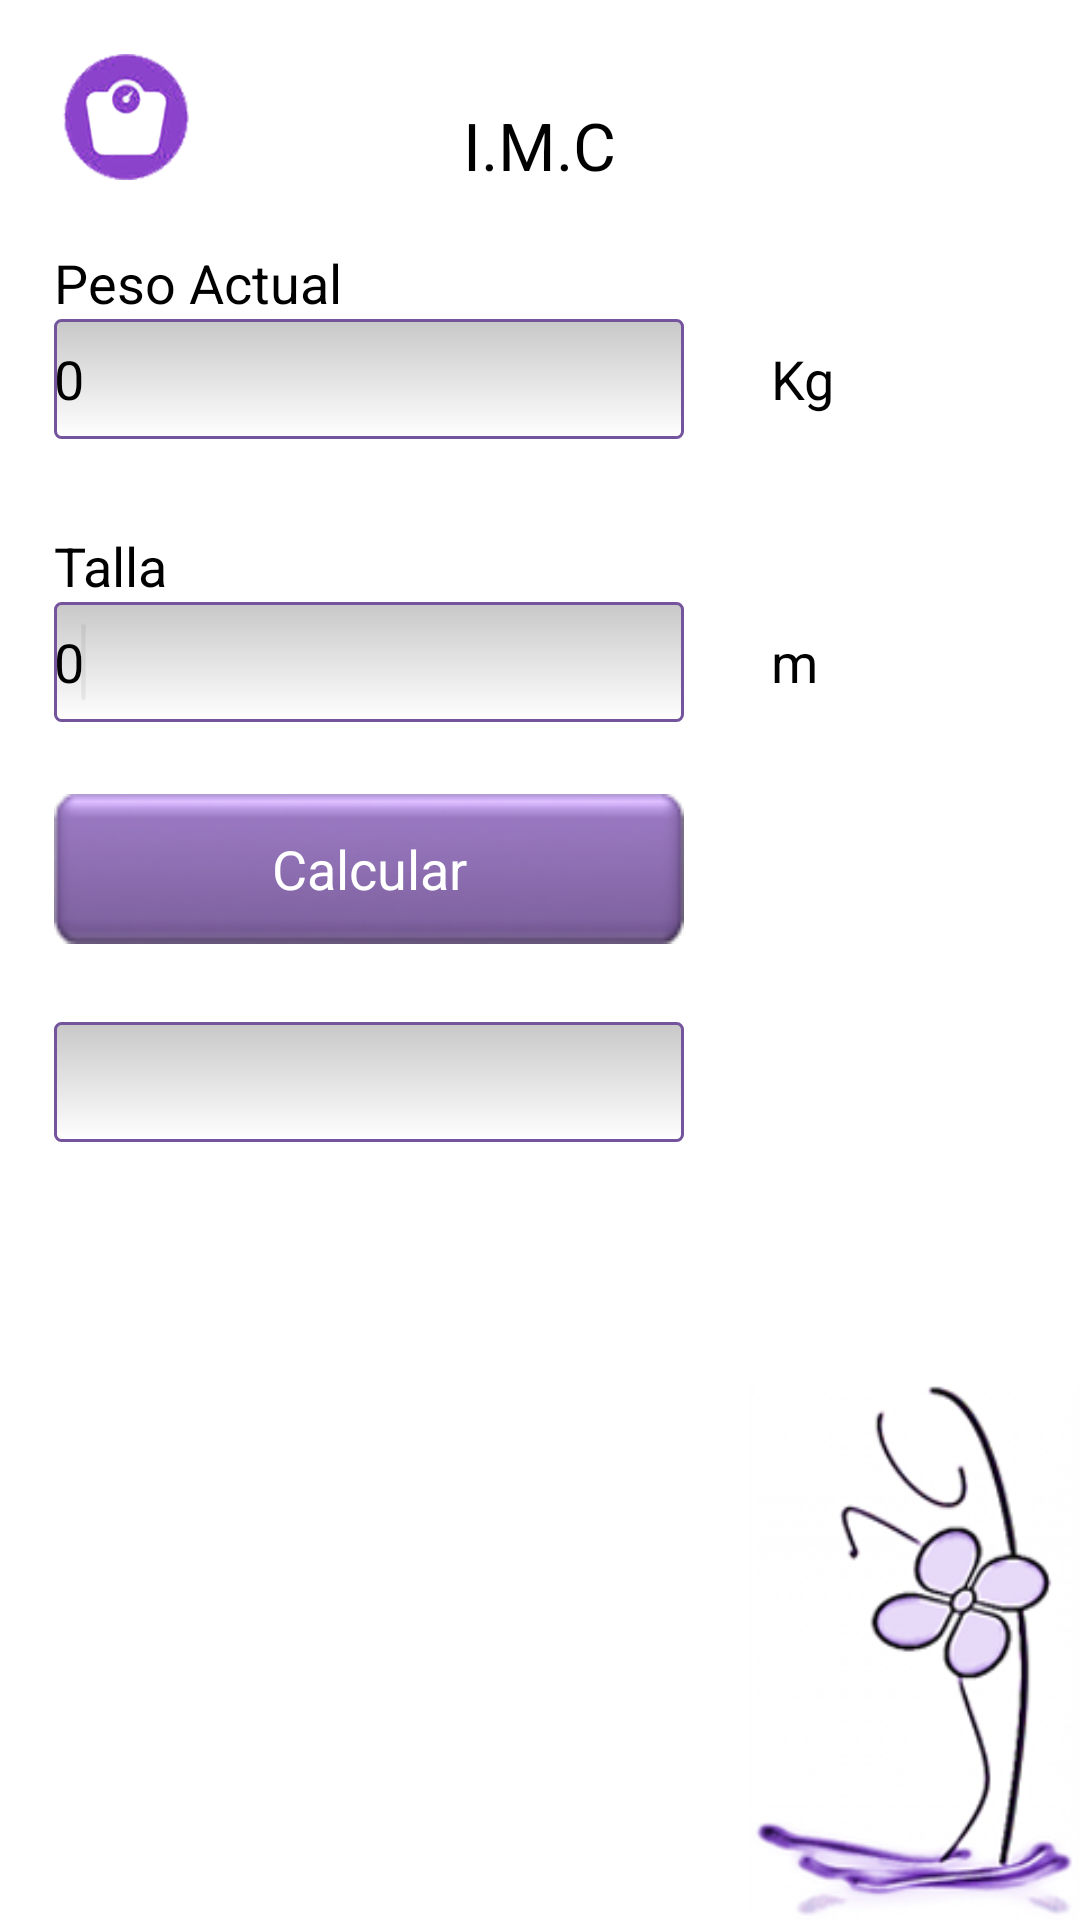

Icon click points for this 1080w x 1920h phone screenshot, format point (x, y):
imc: point (126, 117)
